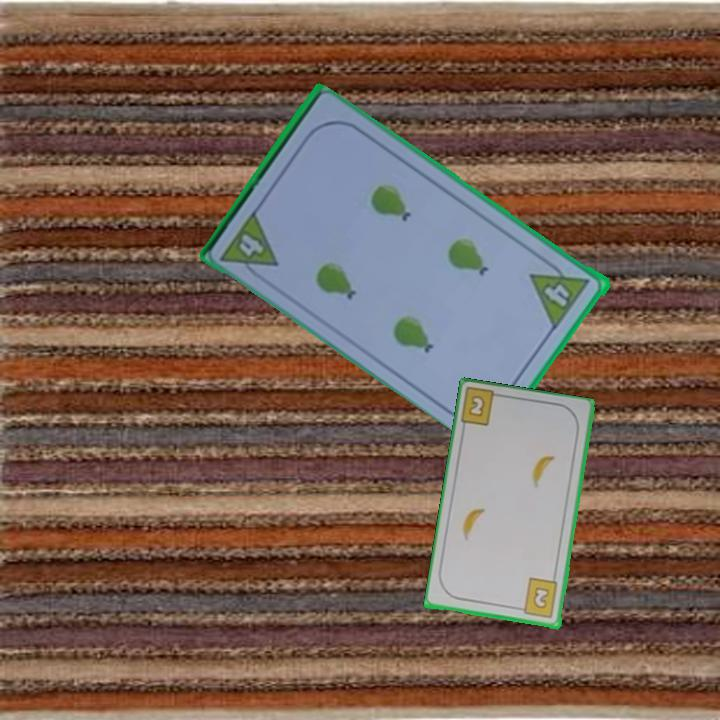2b: (514, 575, 561, 621), (458, 386, 507, 429)
4p: (527, 253, 594, 331), (217, 207, 282, 286)
